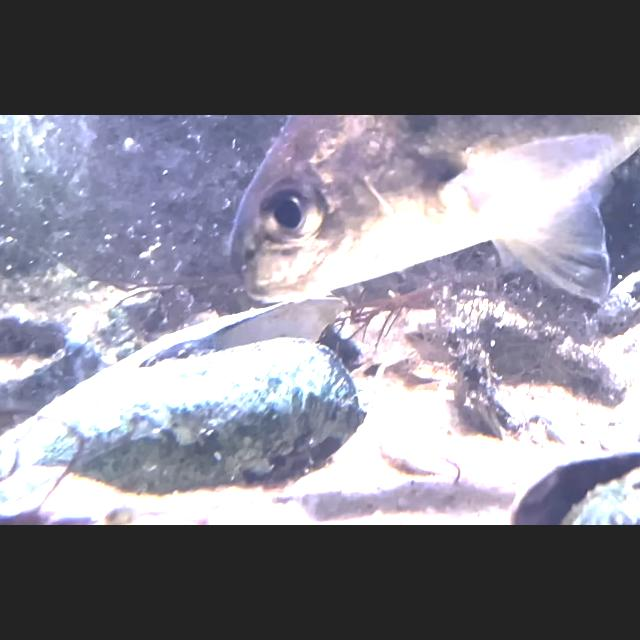Oyster-Closed: (595, 268, 640, 339)
Oyster-Open: (28, 294, 368, 498), (508, 451, 640, 525)
